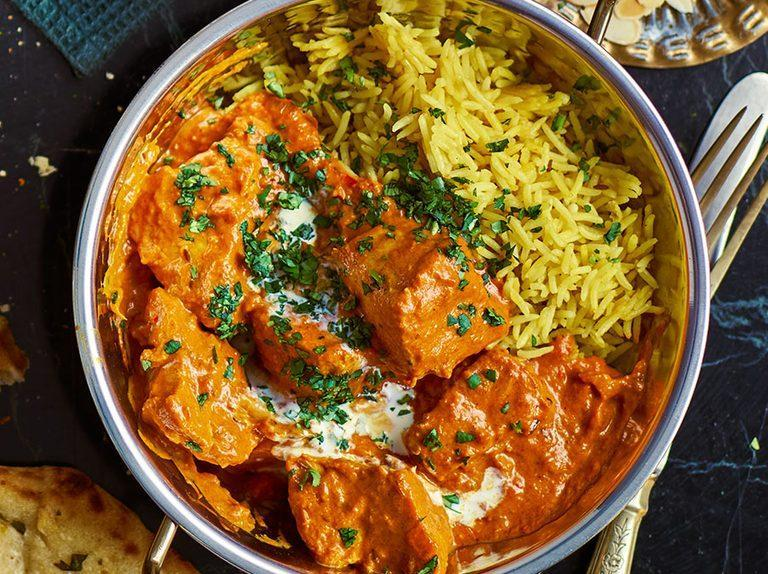chicken: (100, 123, 550, 560)
rice: (255, 34, 655, 366)
